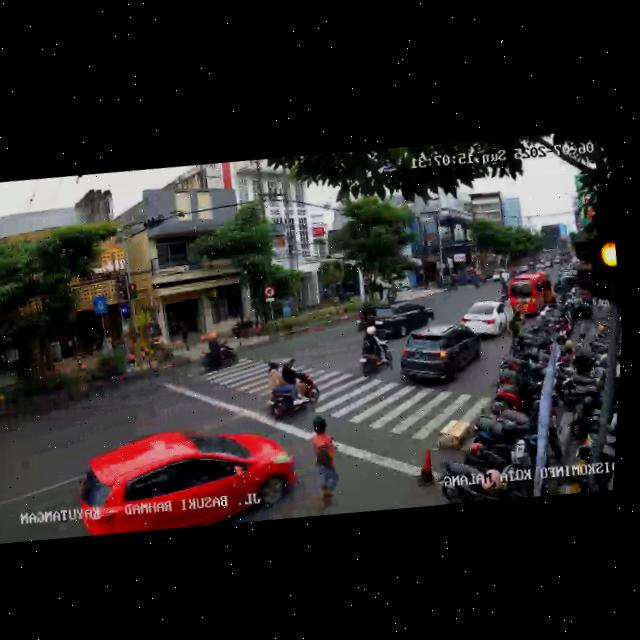car: (68, 409, 306, 548), (391, 317, 487, 394), (372, 293, 440, 342), (504, 268, 560, 321), (457, 296, 514, 345), (350, 297, 401, 333)
motorcycle: (257, 350, 325, 423), (353, 324, 396, 381), (194, 330, 241, 378)
person: (298, 416, 352, 518)
